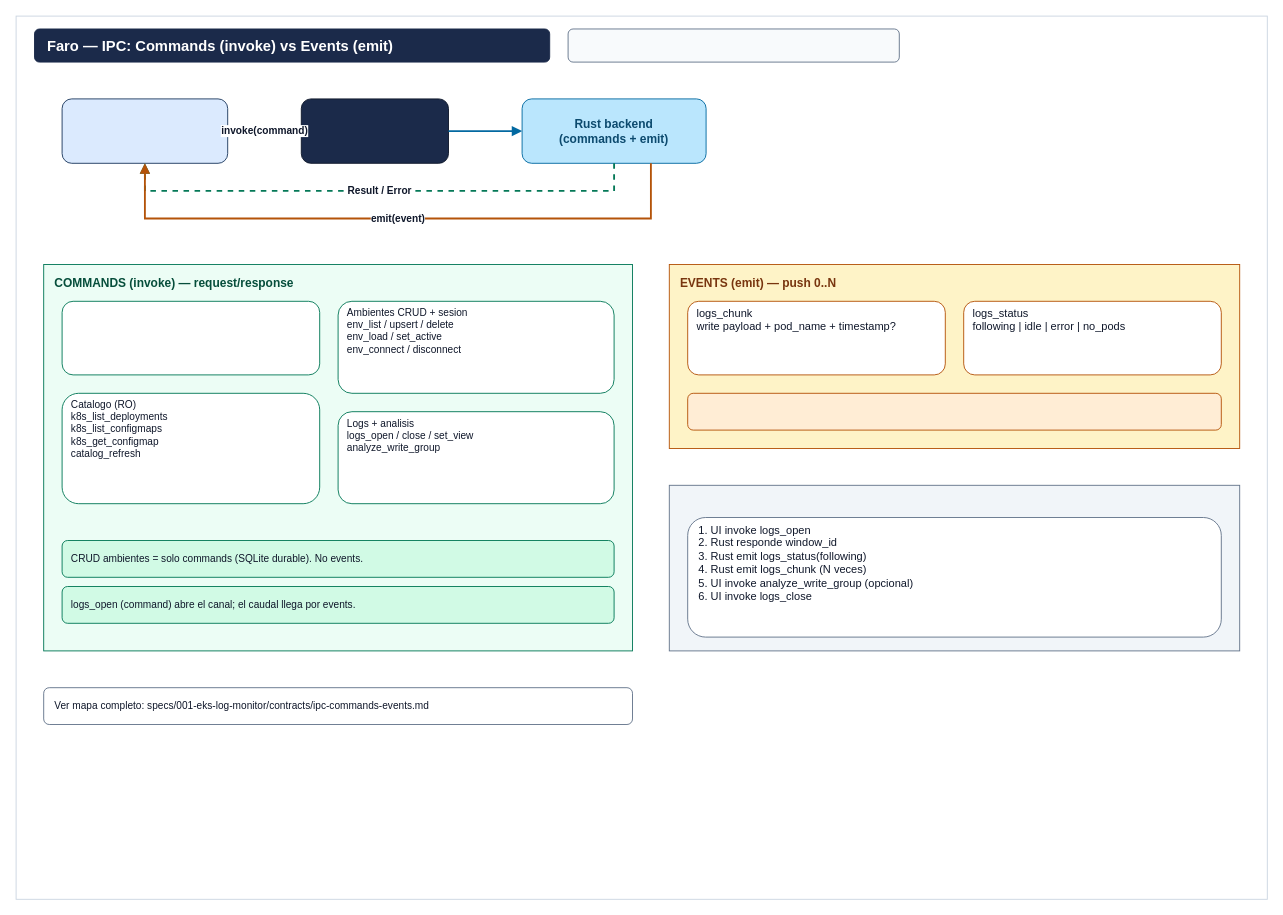
This 1283x915 diagram has some shape labels left out. Each missing label, with the box of its shape:
Flujo tipico logs: (668, 484, 1240, 651)
React UI (invoke / listen): (61, 98, 228, 163)
Sin HTTP. CRUD = commands. Stream logs = events.: (567, 28, 899, 62)
Solo stream de logs. No hay events de env_* / prefs / analyze.: (687, 392, 1221, 430)
Startup session_purge_ephemeral prefs_get / prefs_set: (61, 300, 320, 375)
Tauri IPC bridge: (300, 98, 448, 163)
